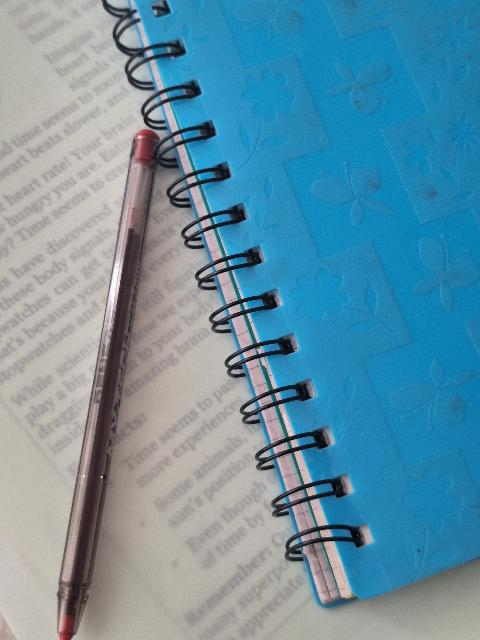writing_tool: (50, 129, 162, 640)
